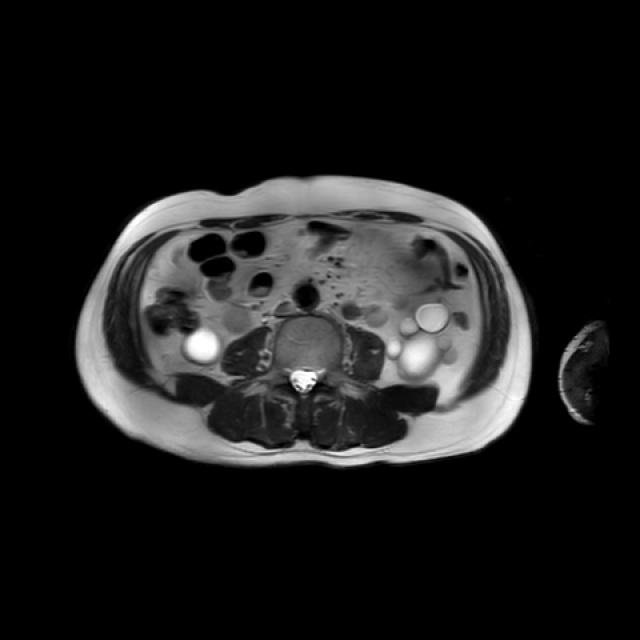sag: (185, 327, 219, 363), (220, 306, 251, 333)
sol: (387, 302, 458, 380), (366, 305, 387, 326)
